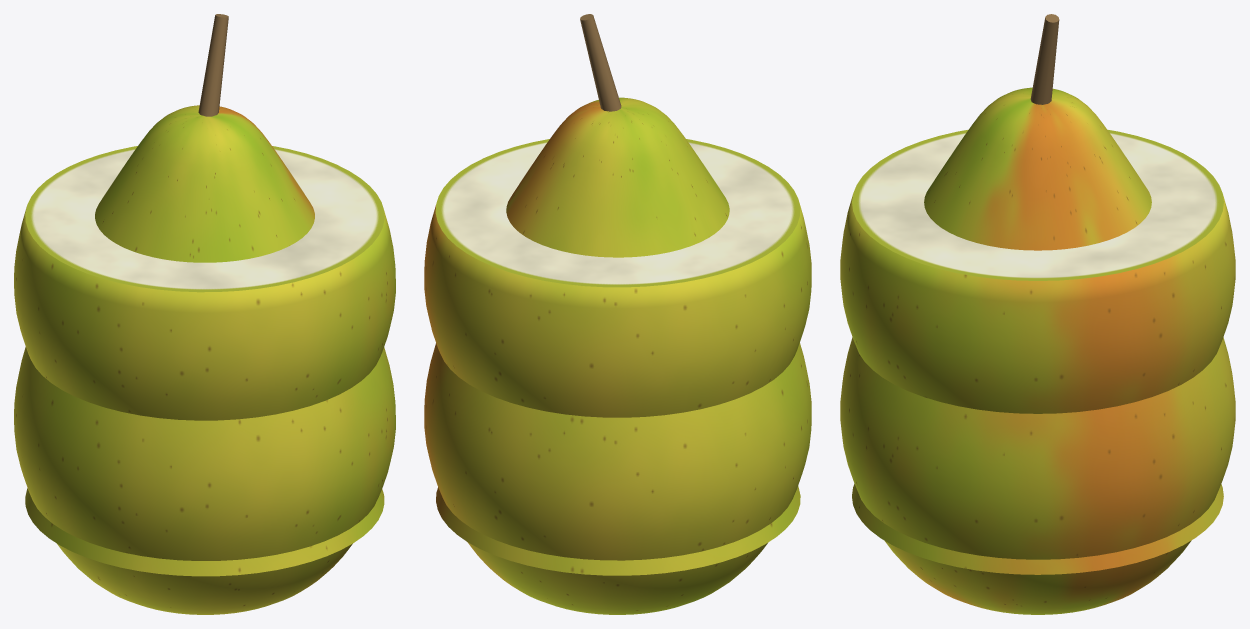
File: pear.glb
3 renders of one model, left to right at view 1: azimuth 30°, elevation 25°; view 2: azimuth 150°, elevation 25°; view 3: azimuth 270°, elevation 25°, orthographic. The views are drawn at different scales.
Parts seen in each view (by area): view 1: whole, bot, top; view 2: whole, bot, top; view 3: whole, bot, top.
Boxes of the visible parts, bbox=[...] form: whole: bbox=[14, 14, 395, 614]; bot: bbox=[14, 146, 395, 420]; top: bbox=[25, 488, 384, 576]; whole: bbox=[424, 14, 811, 614]; bot: bbox=[424, 139, 811, 417]; top: bbox=[436, 486, 800, 575]; whole: bbox=[840, 14, 1235, 614]; bot: bbox=[840, 129, 1235, 413]; top: bbox=[852, 483, 1223, 574].
Bounding box in the file's own units: 0.5525 × 0.8797 × 0.5525.
3 materials, 2 textured.
